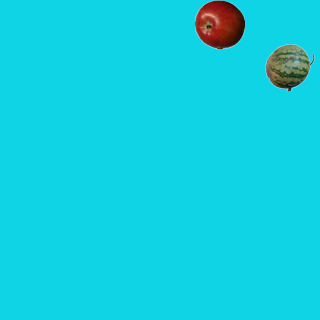Apple Braeburn: (194, 0, 244, 49)
Watermelon: (264, 42, 314, 92)
